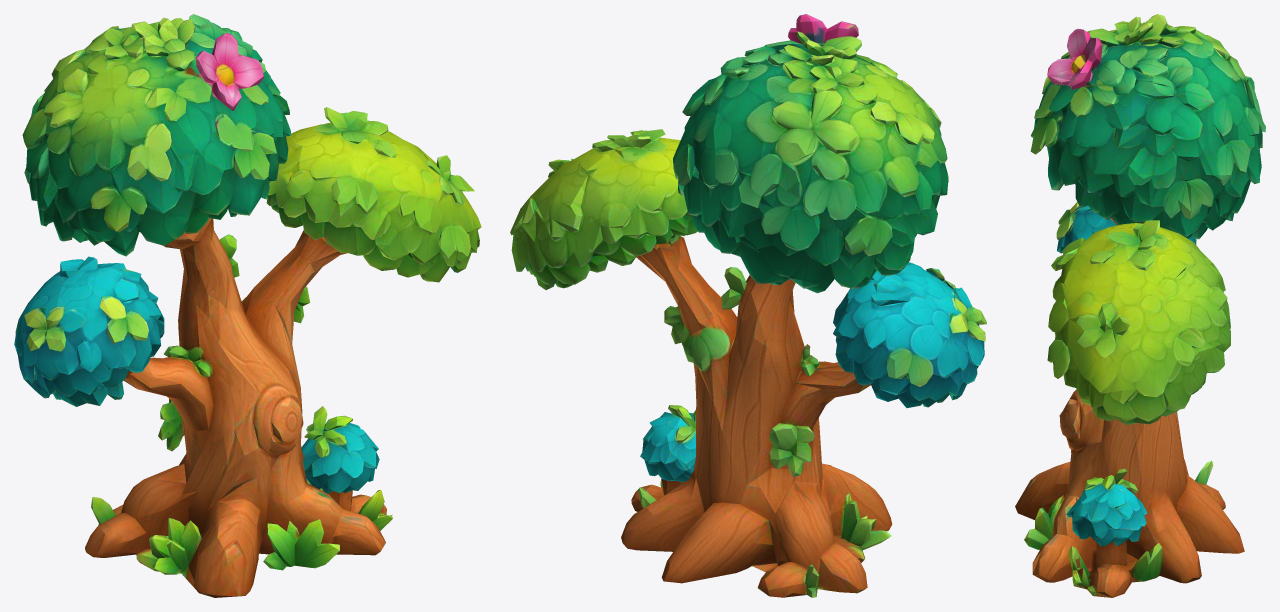
File: blossom-tree.glb
The picture shows the model from 3 angles, left to right: view 1: azimuth 30°, elevation 25°; view 2: azimuth 150°, elevation 25°; view 3: azimuth 270°, elevation 25°; orthographic projection. The views are drawn at different scales.
Visible parts, largest first — view 1: output_unwrapped; view 2: output_unwrapped; view 3: output_unwrapped.
Boxes of the visible parts, x1=… form: output_unwrapped: x1=14, y1=14, x2=481, y2=597; output_unwrapped: x1=510, y1=14, x2=986, y2=597; output_unwrapped: x1=1015, y1=14, x2=1265, y2=597.
Bounding box in the file's own units: 1.71 × 1.9 × 0.8875.
Materials: 1 (1 with a texture image).
